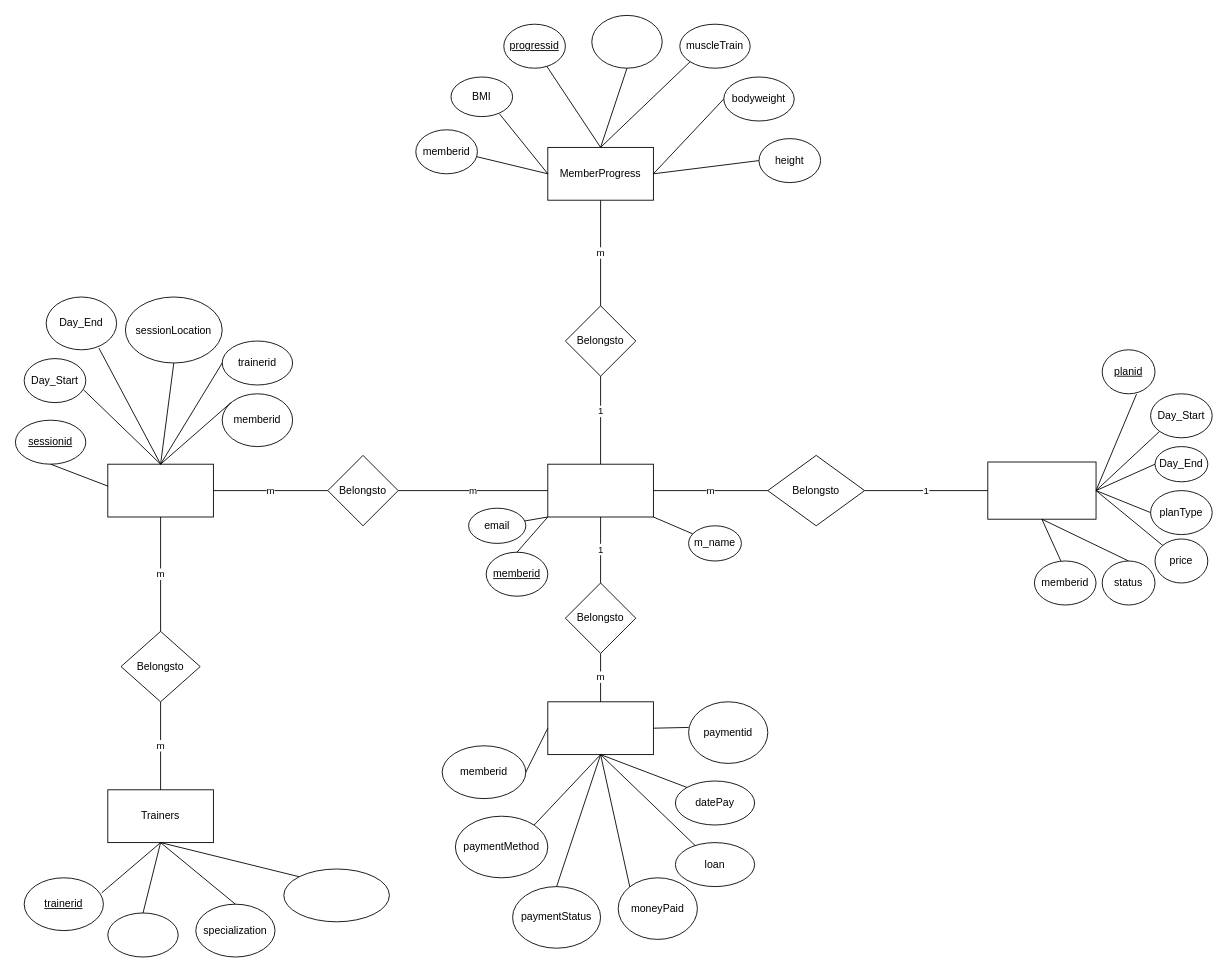
Image size: 1228x972. Some labels were removed from this diagram. Each missing label, with the centre of its shape:
experience_years: [336,895]
Members: [600,490]
MembershipPlans: [1041,490]
Payments: [600,728]
progressDay: [626,41]
t_name: [142,934]
TraningSessions: [160,490]
